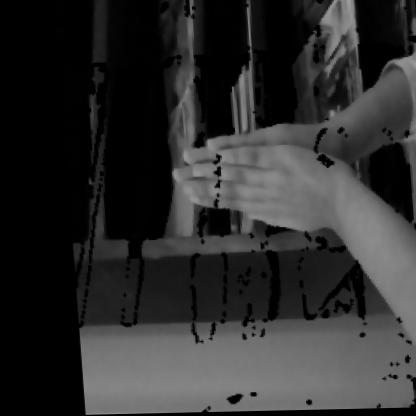namaste: (163, 77, 392, 259)
